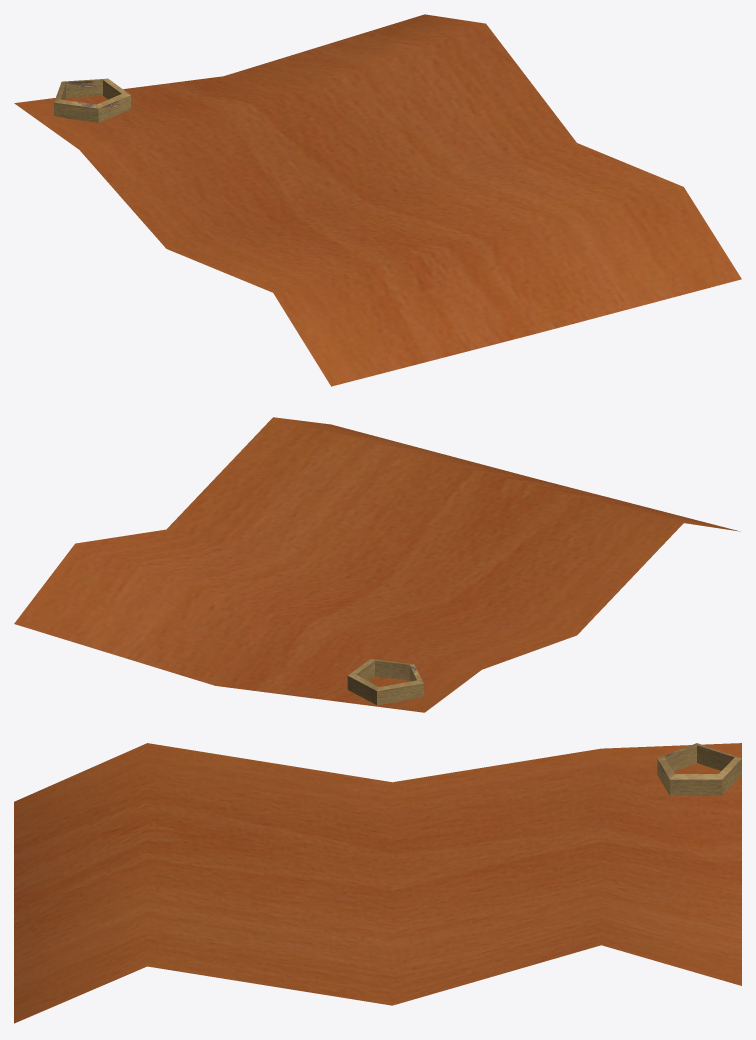
File: parchmentunused.gltf
3 renders of one model, top to bottom at view 1: azimuth 30°, elevation 25°; view 2: azimuth 150°, elevation 25°; view 3: azimuth 270°, elevation 25°, orthographic. The views are drawn at different scales.
Parts seen in each view (by area): view 1: paper; view 2: paper; view 3: paper.
Part boxes in pixels (<box>): paper: <box>14,14,741,386</box>; paper: <box>14,417,740,712</box>; paper: <box>14,743,741,1023</box>.
Bounding box in the file's own units: 0.4393 × 0.0791 × 0.5877.
2 materials, 2 textured.
